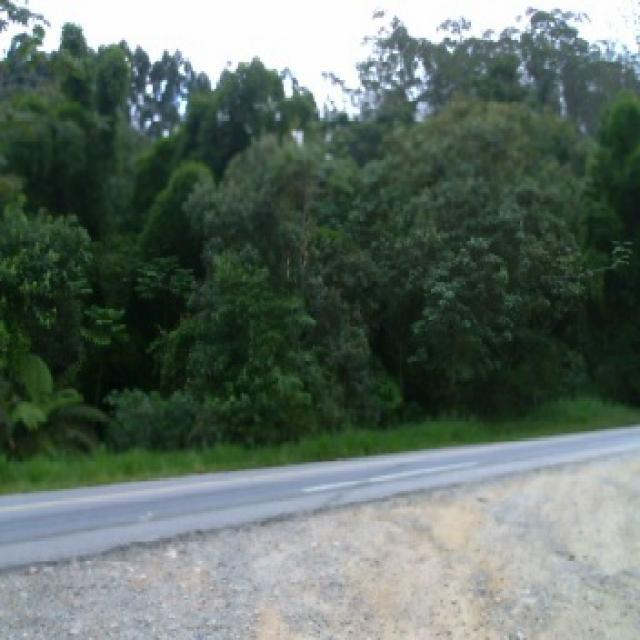Poth-hole: (0, 449, 624, 578)
